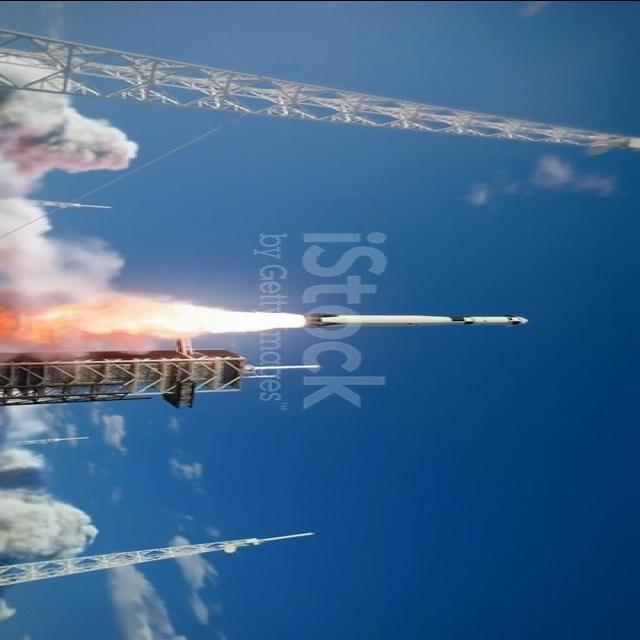Missile: (300, 312, 540, 330)
